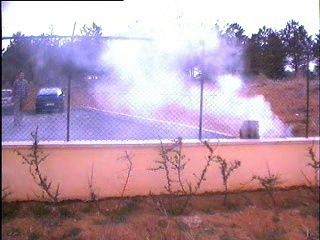smoke: (94, 21, 289, 138)
